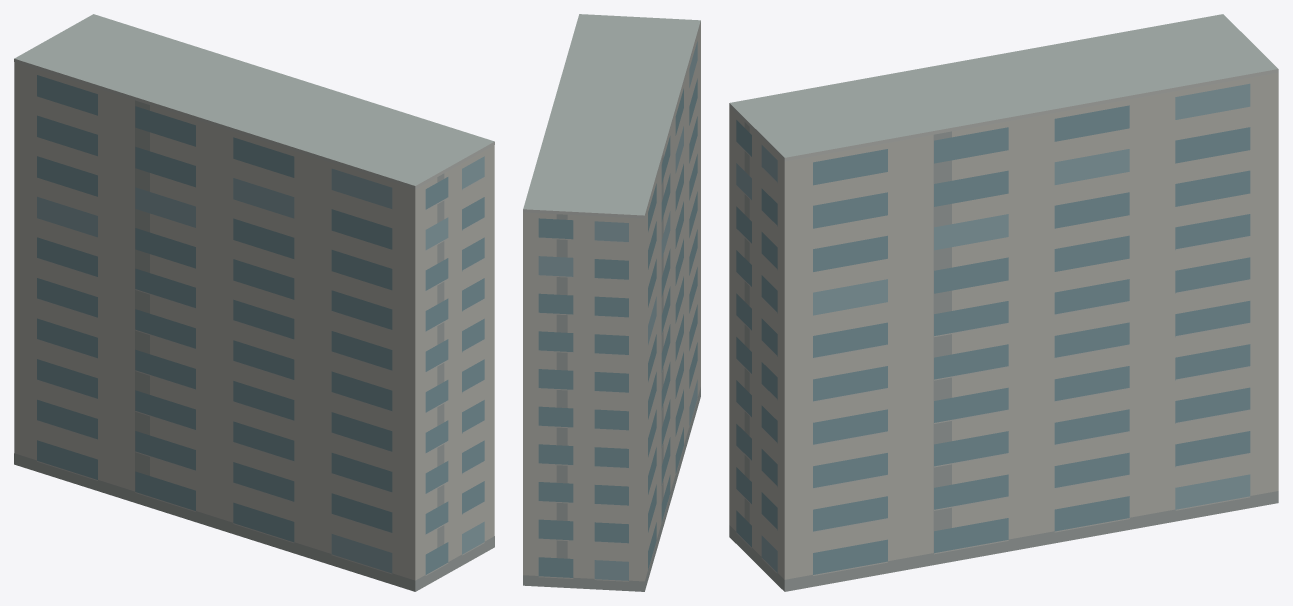
The model's file is residential-6052aad3-0d24-4b6c-b0bf-1853305992aa.glb.
3 renders of one model, left to right at view 1: azimuth 30°, elevation 25°; view 2: azimuth 150°, elevation 25°; view 3: azimuth 270°, elevation 25°, orthographic. The views are drawn at different scales.
Parts seen in each view (by area): view 1: residential-6052aad3-0d24-4b6c-b0bf-1853305992aa.tmp; view 2: residential-6052aad3-0d24-4b6c-b0bf-1853305992aa.tmp; view 3: residential-6052aad3-0d24-4b6c-b0bf-1853305992aa.tmp.
Boxes of the visible parts, bbox=[...] form: residential-6052aad3-0d24-4b6c-b0bf-1853305992aa.tmp: bbox=[14, 14, 494, 591]; residential-6052aad3-0d24-4b6c-b0bf-1853305992aa.tmp: bbox=[523, 14, 700, 591]; residential-6052aad3-0d24-4b6c-b0bf-1853305992aa.tmp: bbox=[729, 14, 1278, 591].
Bounding box in the file's own units: 20.62 × 29 × 33.26.
